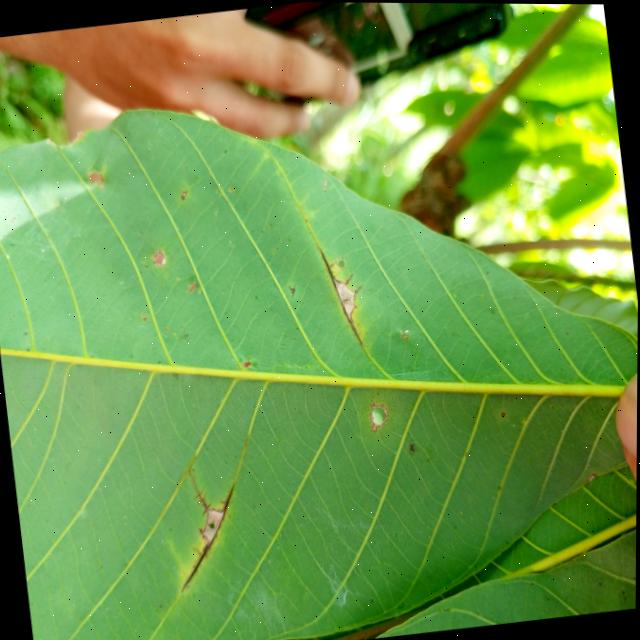Colletotrichum: (180, 190, 187, 197)
Corynespora: (168, 464, 248, 591), (318, 245, 371, 349), (187, 468, 212, 514), (352, 284, 363, 297), (286, 283, 296, 297)
Leaf-Blight: (333, 276, 357, 321), (199, 508, 227, 544)
